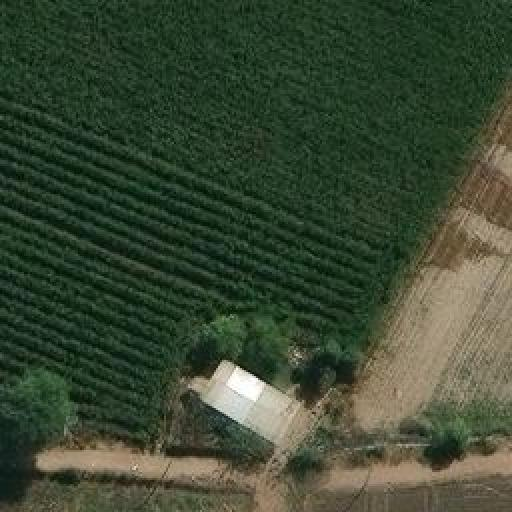manzanas: (177, 352, 312, 461)
